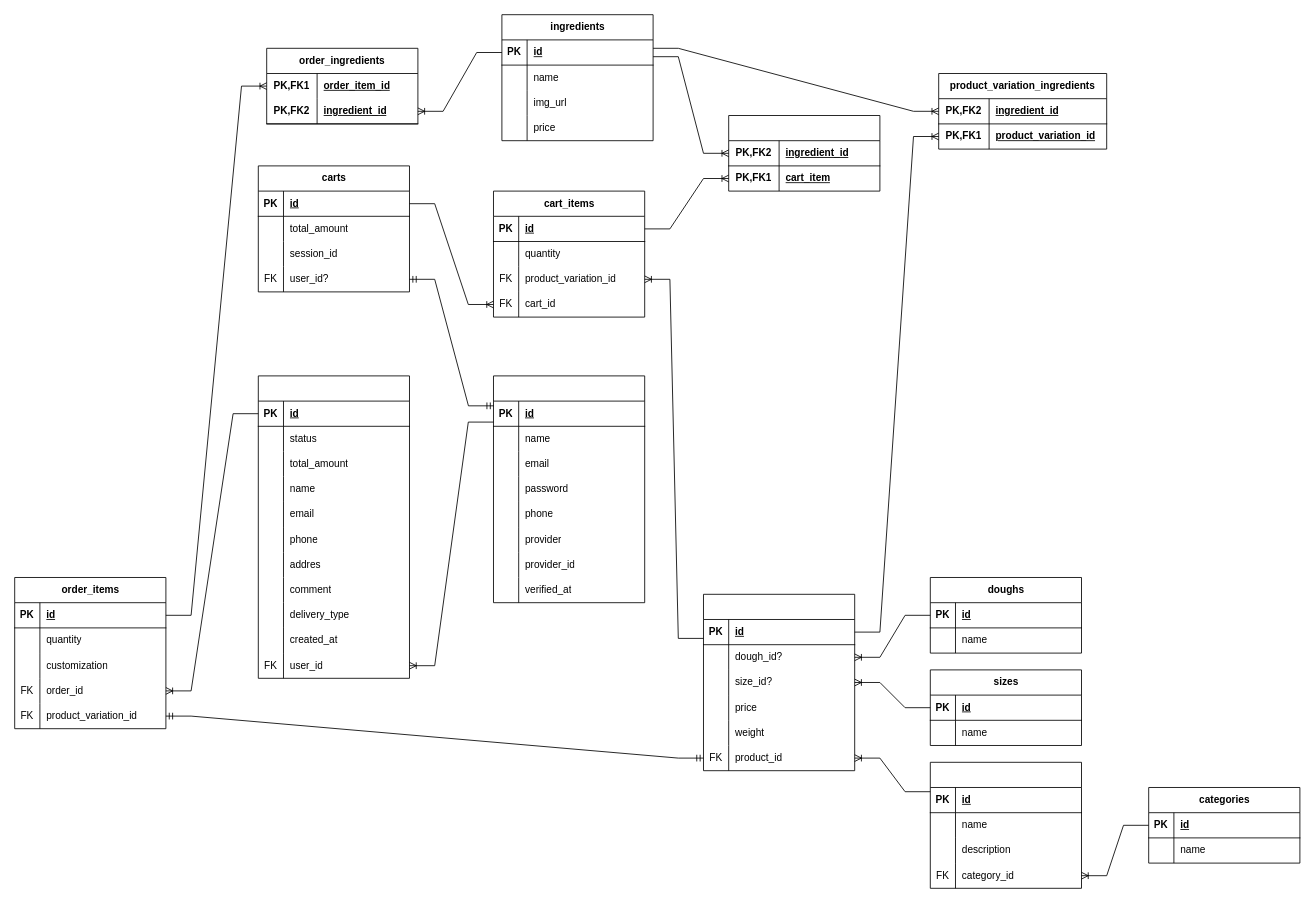
Image size: 1315x903. Some labels were removed from this diagram. The shapes that lost their labels are listed below. From the top down, each one's box as (x1, y1, x2, y2) in pixels, then its label:
(728, 115, 880, 191): cart_item_ingredients
(493, 375, 645, 603): users
(257, 375, 410, 678): orders
(703, 593, 855, 771): product_variations
(929, 761, 1082, 888): product
